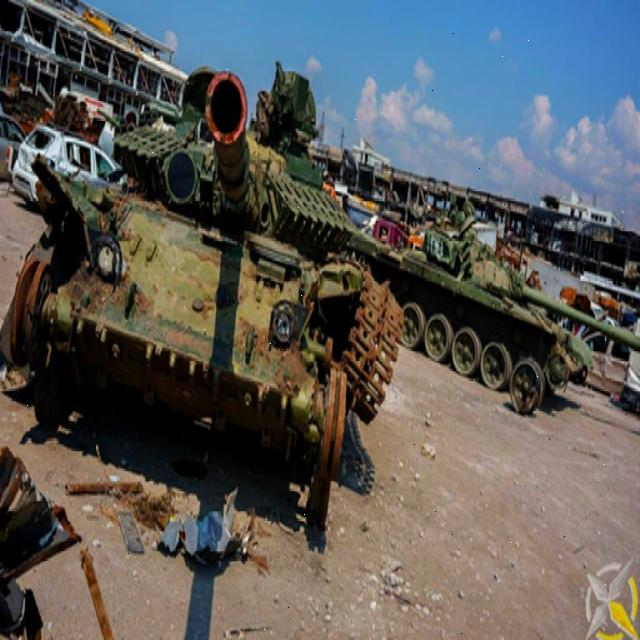CAR: (12, 116, 126, 216)
TANK: (9, 67, 356, 509), (368, 202, 636, 424)
